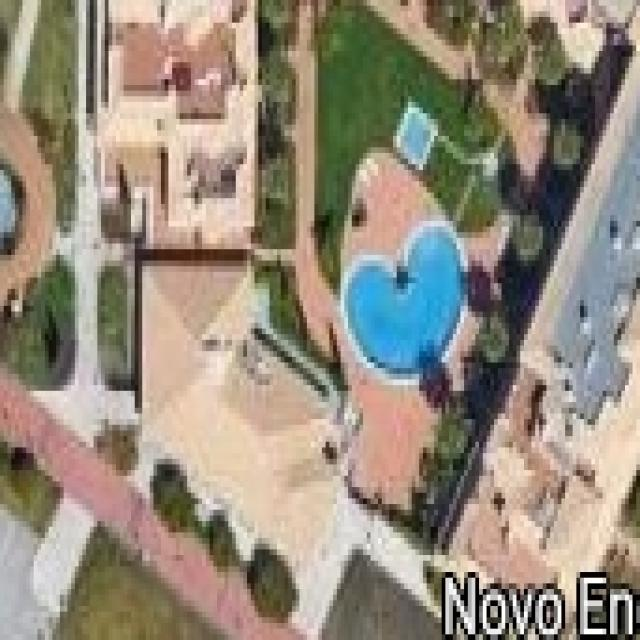pool: (339, 218, 471, 388), (386, 90, 441, 175)
